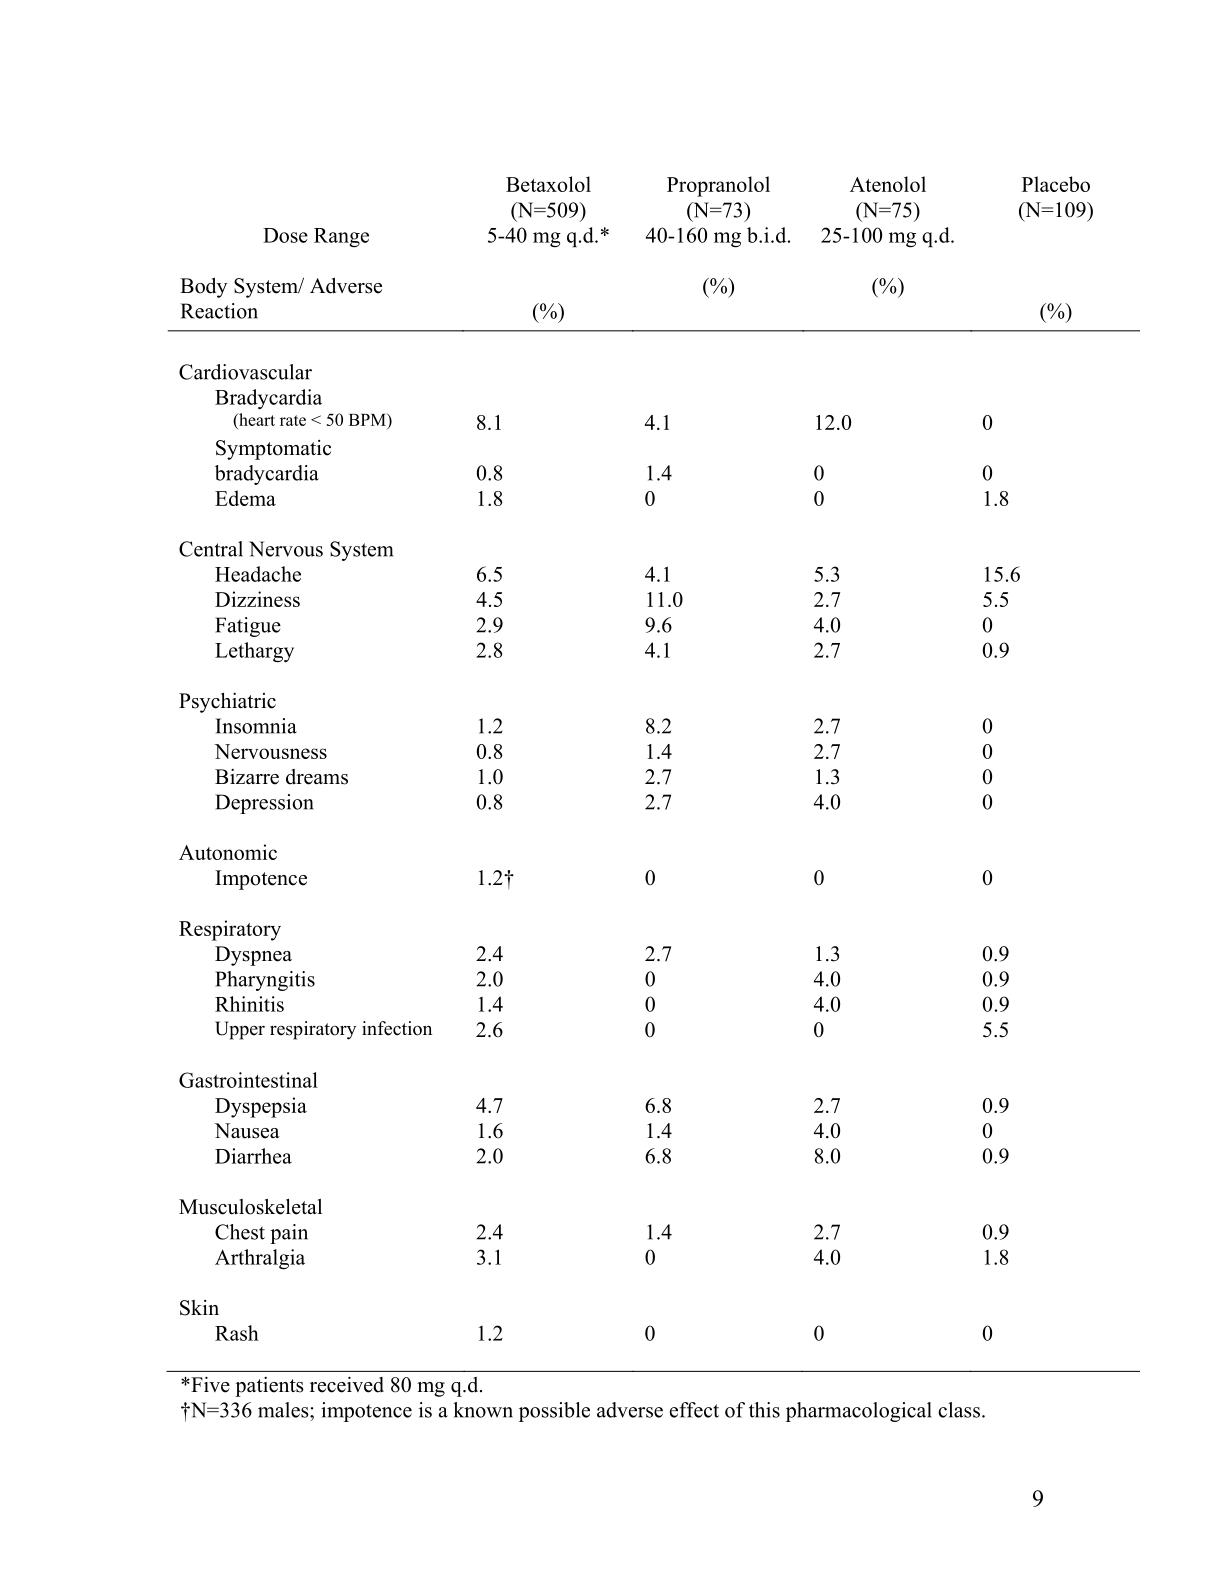partial_lined: (165, 172, 1143, 1374)
